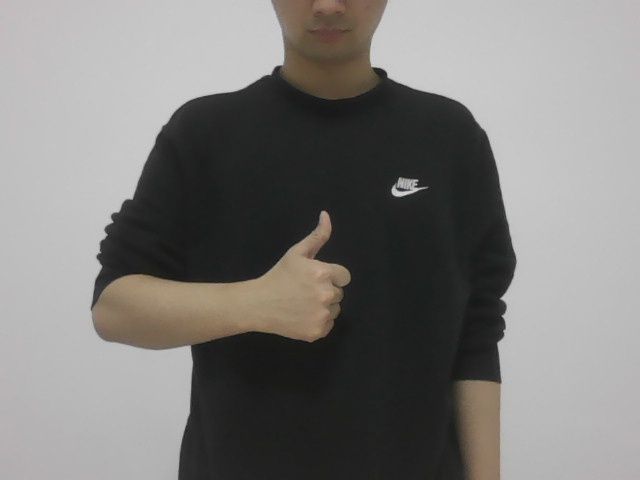good: (247, 205, 361, 345)
